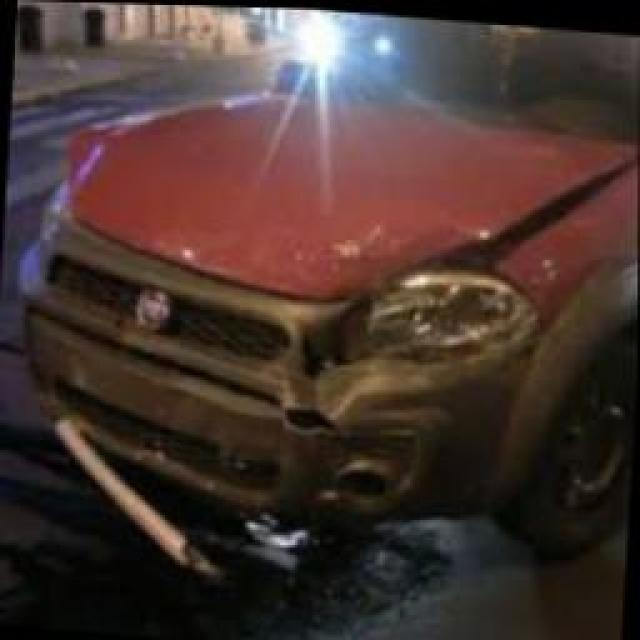replaceable: (250, 360, 402, 518), (348, 270, 534, 356), (426, 224, 514, 266)
